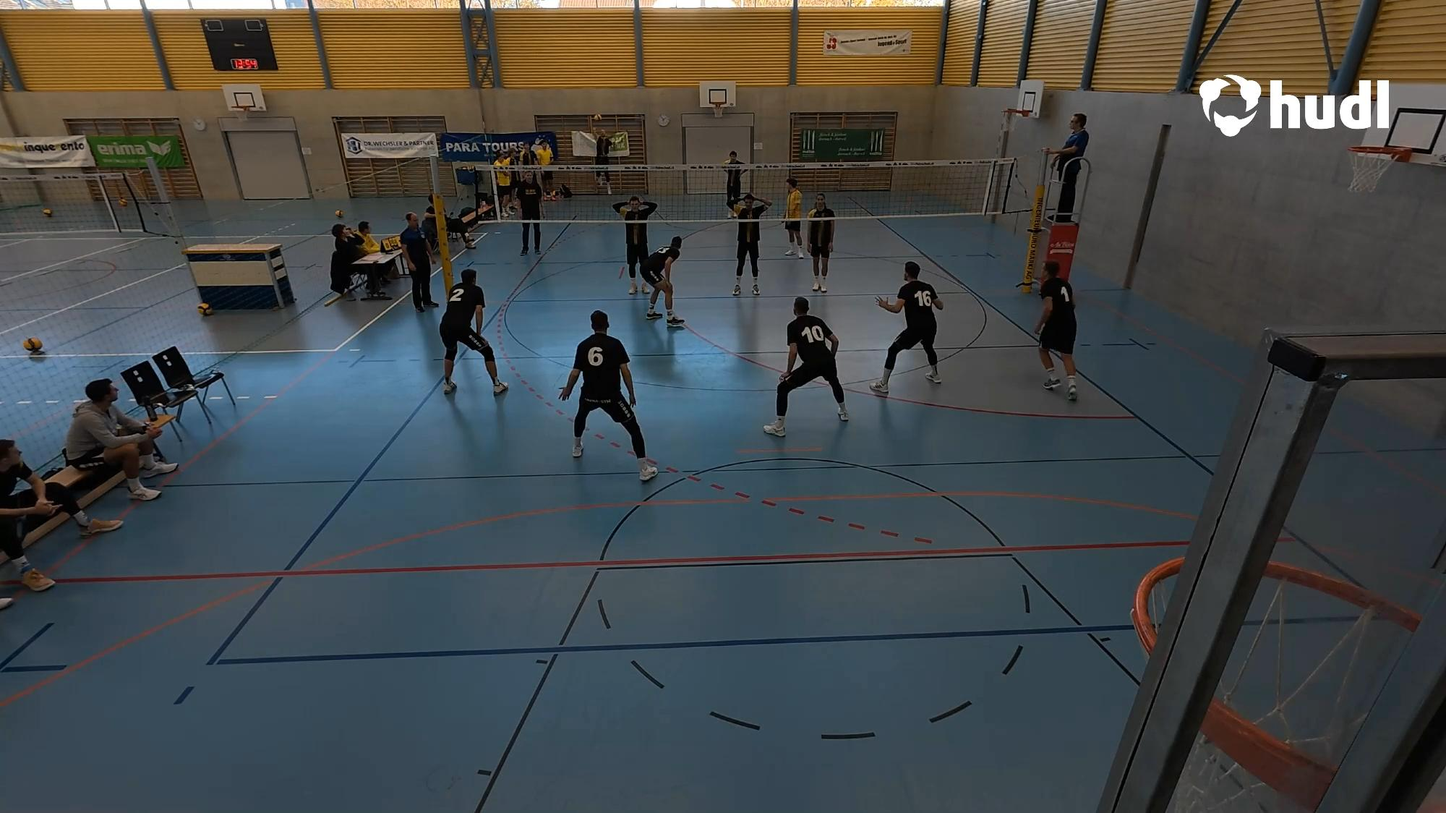Player: (561, 310, 664, 482), (762, 293, 849, 437), (869, 258, 944, 395), (440, 265, 507, 396), (1029, 254, 1082, 399), (616, 190, 656, 297), (643, 234, 688, 328), (730, 192, 765, 295), (803, 200, 836, 295), (718, 148, 751, 220), (780, 176, 808, 259)
Serve: (587, 110, 617, 197)
ball: (592, 112, 605, 123)
